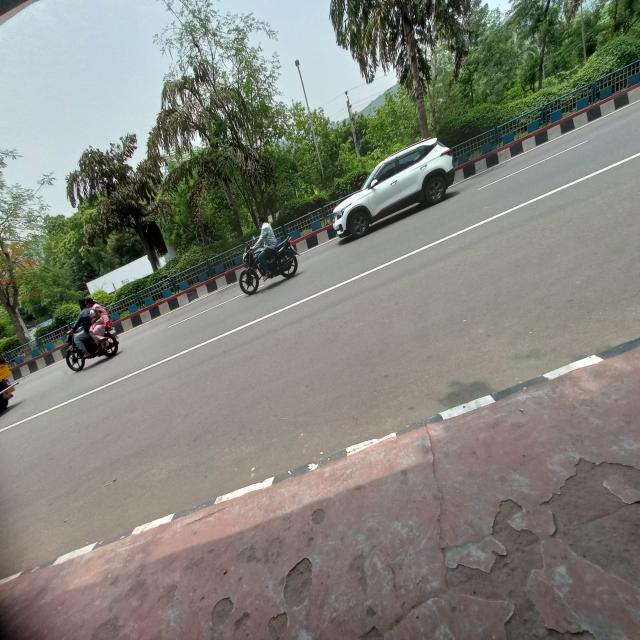bike: (230, 234, 306, 302), (63, 321, 122, 374)
car: (329, 120, 468, 245)
